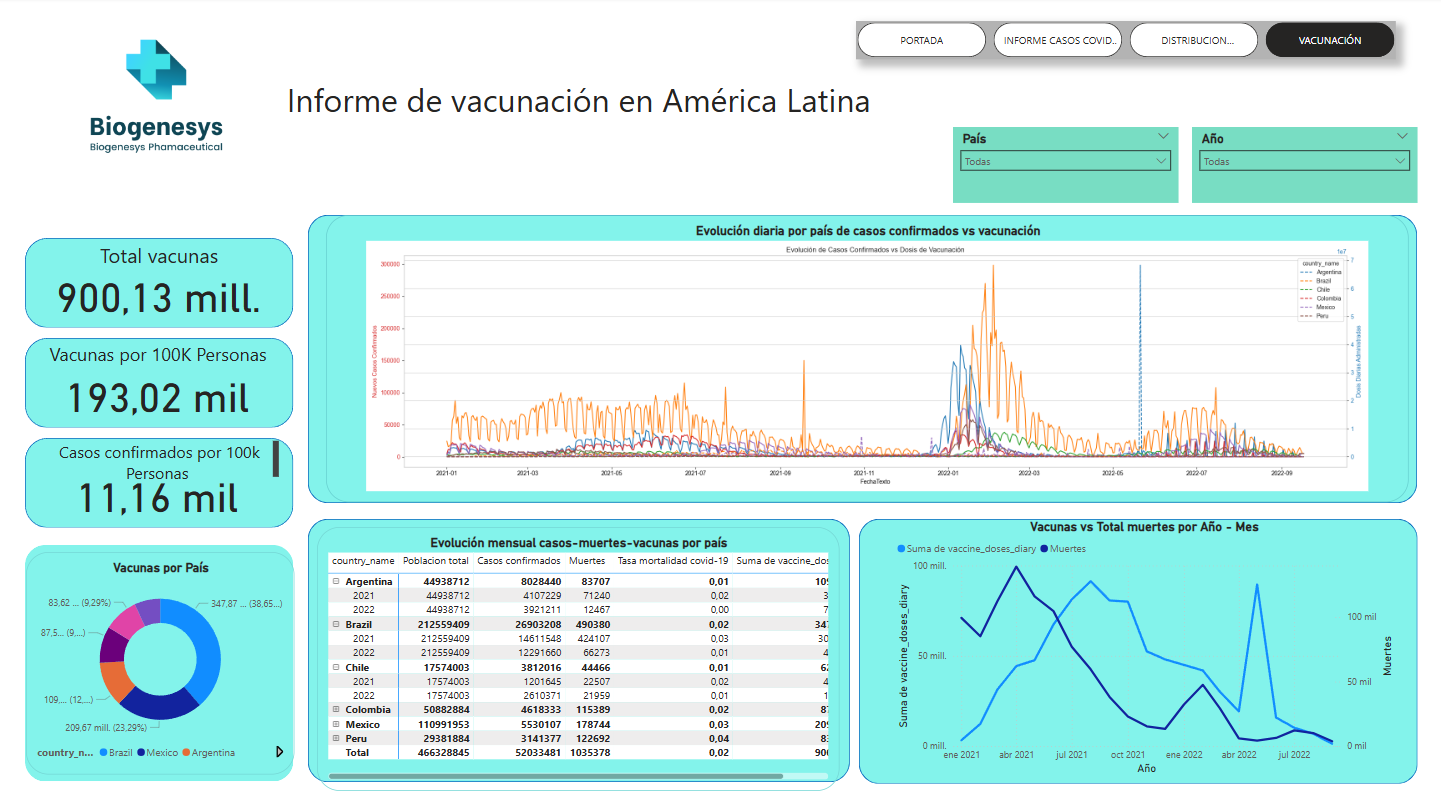

This screenshot's page, from the dashboard's own definition file:
{"tool":"powerbi","page":{"name":"VACUNACIÓN","canvas":[1920,1080],"ordinal":3},"visuals":[{"type":"image","box":[0,0,450,274],"z":0},{"type":"shape","box":[34.8,320.5,356.8,119.4],"z":1000},{"type":"shape","box":[34.8,453.5,356.8,119.4],"z":2000},{"type":"shape","box":[34.8,586.6,356.8,119.4],"z":3000},{"type":"shape","box":[34.8,728.7,356.8,314.5],"z":4000},{"type":"shape","box":[411,290,1475,383.1],"z":5000},{"type":"shape","box":[410.4,694.4,720.5,350],"z":6000},{"type":"shape","box":[1143.6,694.2,742.8,352.1],"z":7000},{"type":"pivotTable","title":"Evolución mensual casos-muertes-vacunas por país","fields":{"Rows":["Vacunas.country_name","Vacunas.date.Variación.Jerarquía de fechas.Año"],"Values":["Medidas.Poblacion total","Medidas.Casos confirmados","Medidas.Muertes","Medidas.Tasa mortalidad covid-19","Sum(Vacunas.vaccine_doses_diary)"]},"box":[422.7,705.3,694.7,350.7],"z":8000},{"type":"lineChart","title":"Vacunas vs Total muertes por Año - Mes","fields":{"Category":["Vacunas.date.Variación.Jerarquía de fechas.Año","Vacunas.date.Variación.Jerarquía de fechas.Mes"],"Y":["Sum(Vacunas.vaccine_doses_diary)"],"Y2":["Medidas.Muertes"]},"box":[1188.9,694.2,669.1,345.4],"z":9000},{"type":"donutChart","title":"Vacunas por País","fields":{"Y":["Medidas.Vacunación"],"Category":["Vacunas.country_name"]},"box":[35.4,737.5,357.2,295.6],"z":10000},{"type":"card","fields":{"Values":["Medidas.Vacunación"]},"box":[57.4,365.9,308.4,74.1],"z":11000},{"type":"textbox","box":[78.2,319.8,269,46.7],"z":12000},{"type":"card","fields":{"Values":["Medidas.Vacuna por 100k"]},"box":[56.3,498.2,308.8,74.1],"z":13000},{"type":"card","fields":{"Values":["Medidas.Casos confirmados por 100k"]},"box":[55.9,631.8,308.6,73.2],"z":14000},{"type":"textbox","box":[57.6,452.9,308.8,46.7],"z":15000},{"type":"textbox","box":[55.9,585.2,321.9,46.6],"z":16000},{"type":"slicer","fields":{"Values":["DatosFinalesFiltrado.country_name"]},"box":[1268.4,172.3,299.7,101.4],"z":17000},{"type":"slicer","fields":{"Values":["DatosFinalesFiltrado.date.Variación.Jerarquía de fechas.Año"]},"box":[1587,172.3,299.7,101.4],"z":18000},{"type":"textbox","box":[377.7,102.4,796.7,99.8],"z":19000},{"type":"pythonVisual","title":"Evolución diaria por país de  casos confirmados vs vacunación","fields":{"Values":["DatosFinalesFiltrado.country_name","DatosFinalesFiltrado.FechaTexto","Sum(DatosFinalesFiltrado.new_confirmed)","Sum(DatosFinalesFiltrado.Vacunas.vaccine_doses_diary)"]},"box":[434.3,290.1,1440.4,382.3],"z":20000},{"type":"pageNavigator","box":[1139.9,31.9,718.2,50.5],"z":21000}]}

Visuals, with their boxes in screenshot pixels (x1, y1, x2, y2), scaled from the page's 1920x1080 canvas onto the 1441x804 screenshot:
image: crop(0, 0, 338, 204)
shape: crop(26, 239, 294, 327)
shape: crop(26, 338, 294, 426)
shape: crop(26, 437, 294, 526)
shape: crop(26, 542, 294, 777)
shape: crop(308, 216, 1415, 501)
shape: crop(308, 517, 849, 777)
shape: crop(858, 517, 1416, 779)
"Evolución mensual casos-muertes-vacunas por país" pivotTable: crop(317, 525, 839, 786)
"Vacunas vs Total muertes por Año - Mes" lineChart: crop(892, 517, 1394, 774)
"Vacunas por País" donutChart: crop(27, 549, 295, 769)
card - Medidas.Vacunación: crop(43, 272, 275, 328)
textbox: crop(59, 238, 261, 273)
card - Medidas.Vacuna por 100k: crop(42, 371, 274, 426)
card - Medidas.Casos confirmados por 100k: crop(42, 470, 274, 525)
textbox: crop(43, 337, 275, 372)
textbox: crop(42, 436, 284, 470)
slicer - DatosFinalesFiltrado.country_name: crop(952, 128, 1177, 204)
slicer - DatosFinalesFiltrado.date.Variación.Jerarquía de fechas.Año: crop(1191, 128, 1416, 204)
textbox: crop(283, 76, 881, 151)
"Evolución diaria por país de  casos confirmados vs vacunación" pythonVisual: crop(326, 216, 1407, 501)
pageNavigator: crop(856, 24, 1395, 61)
